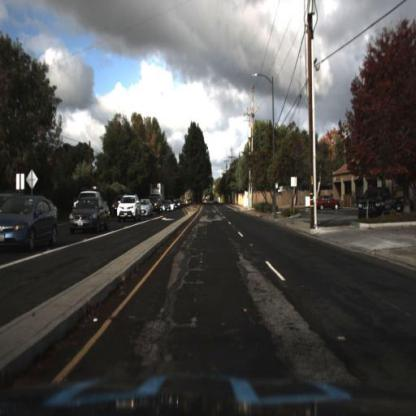car: (1, 196, 61, 259), (66, 199, 112, 237), (356, 185, 394, 223), (114, 189, 143, 227), (116, 193, 143, 226), (314, 193, 342, 213), (70, 187, 105, 202), (107, 192, 121, 220), (141, 192, 153, 221)
truck: (149, 183, 168, 201)
